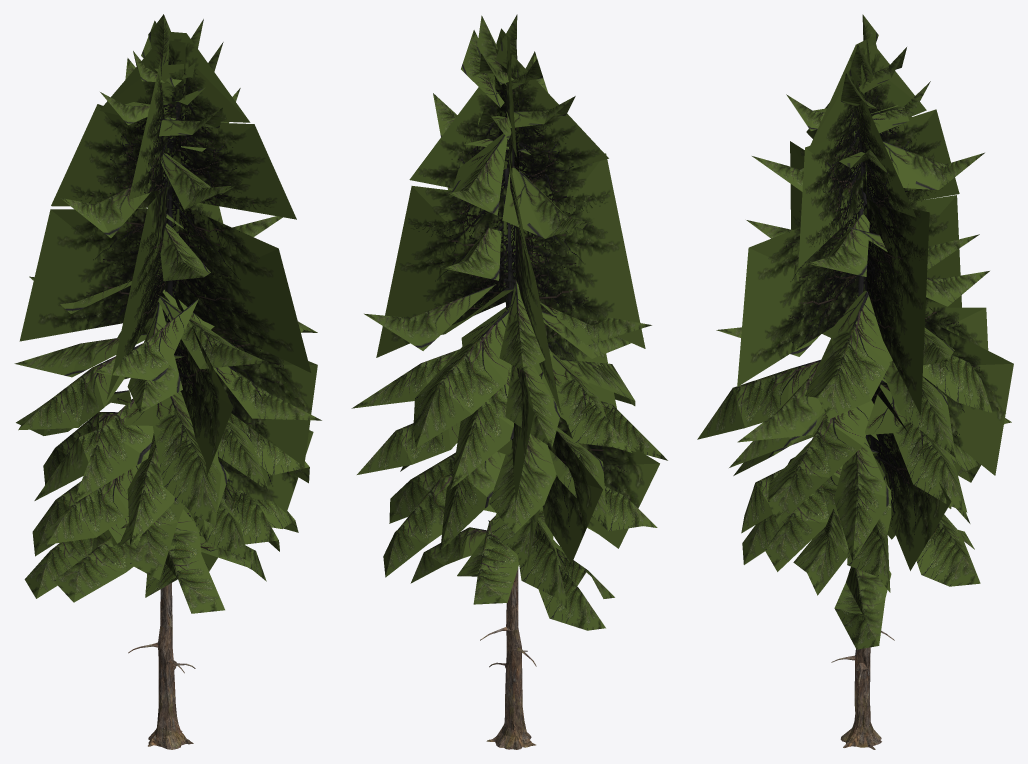
The model's file is spruce_2.dae.
The picture shows the model from 3 angles, left to right: view 1: azimuth 30°, elevation 25°; view 2: azimuth 150°, elevation 25°; view 3: azimuth 270°, elevation 25°; orthographic projection.
Visible parts, largest first — view 1: Mesh_Object; view 2: Mesh_Object; view 3: Mesh_Object.
Boxes of the visible parts, x1,y1,x2,y2 form: Mesh_Object: (14, 14, 321, 749); Mesh_Object: (351, 14, 667, 749); Mesh_Object: (697, 14, 1013, 749).
Bounding box in the file's own units: 5.91 × 15.34 × 6.08.
